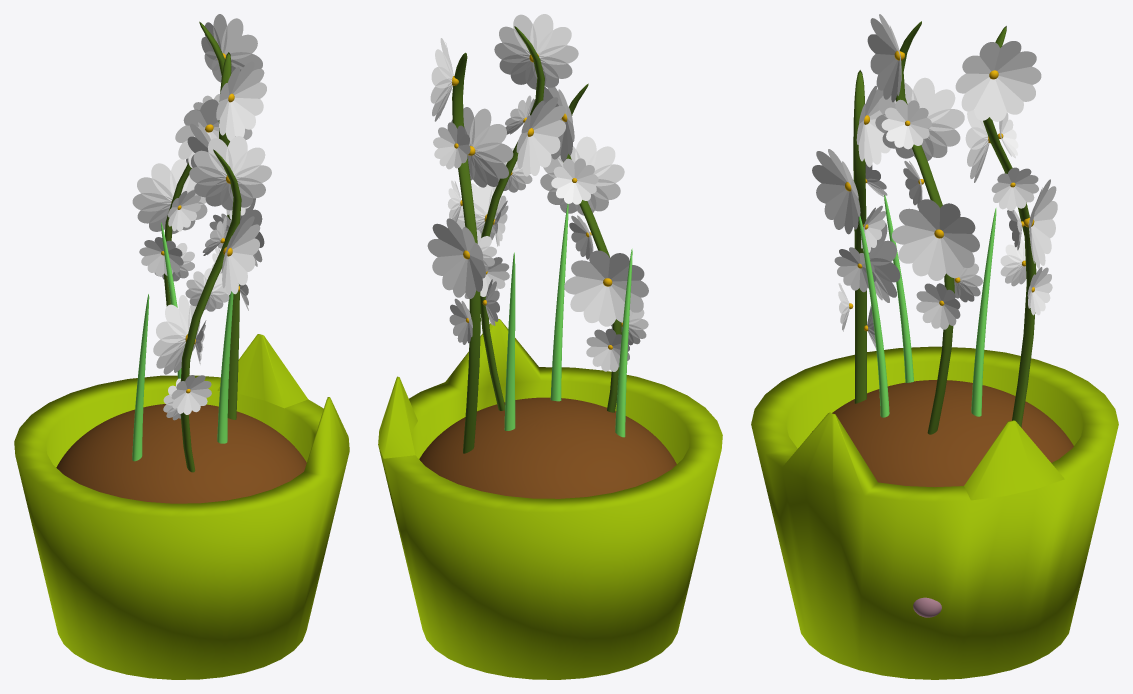
The model's file is Primavera 3.fbx.
3 renders of one model, left to right at view 1: azimuth 30°, elevation 25°; view 2: azimuth 150°, elevation 25°; view 3: azimuth 270°, elevation 25°, orthographic. The views are drawn at different scales.
Parts seen in each view (by area): view 1: Circle.013, Sphere.013, Cube.092, Cube.101, Cube.085, Cube.093, Cube.083, Cube.094, Cube.095, Cube.102, Cube.086, Cube.111 (+7 smaller); view 2: Circle.013, Sphere.013, Cube.094, Cube.101, Cube.084, Cube.085, Cube.095, Cube.086, Cube.104, Cube.102, Cube.096, Cube.111 (+13 smaller); view 3: Circle.013, Sphere.013, Cube.103, Cube.083, Cube.104, Cube.093, Cube.095, Cube.084, Cube.102, Cube.101, Cube.105, Cube.085 (+15 smaller).
Part boxes in pixels (left/top/right/bottom): Circle.013: left=14, top=334, right=349, bottom=679; Sphere.013: left=56, top=404, right=306, bottom=503; Cube.092: left=189, top=136, right=271, bottom=210; Cube.101: left=216, top=61, right=266, bottom=140; Cube.085: left=132, top=159, right=207, bottom=234; Cube.093: left=180, top=149, right=241, bottom=472; Cube.083: left=201, top=14, right=262, bottom=82; Cube.094: left=153, top=295, right=200, bottom=374; Cube.095: left=222, top=216, right=260, bottom=294; Cube.102: left=218, top=52, right=239, bottom=419; Cube.086: left=175, top=99, right=252, bottom=168; Cube.111: left=217, top=291, right=233, bottom=443; Circle.013: left=378, top=319, right=722, bottom=679; Sphere.013: left=419, top=397, right=676, bottom=498; Cube.094: left=564, top=250, right=648, bottom=326; Cube.101: left=494, top=14, right=578, bottom=89; Cube.084: left=452, top=52, right=480, bottom=453; Cube.085: left=427, top=218, right=485, bottom=298; Cube.095: left=540, top=136, right=624, bottom=215; Cube.086: left=451, top=107, right=513, bottom=187; Cube.104: left=516, top=97, right=565, bottom=176; Cube.102: left=480, top=26, right=544, bottom=410; Cube.096: left=551, top=158, right=598, bottom=204; Cube.111: left=550, top=204, right=568, bottom=401; Circle.013: left=751, top=346, right=1118, bottom=679; Sphere.013: left=812, top=380, right=1073, bottom=487; Cube.103: left=892, top=199, right=979, bottom=280; Cube.083: left=955, top=41, right=1041, bottom=121; Cube.104: left=875, top=77, right=964, bottom=160; Cube.093: left=853, top=70, right=866, bottom=403; Cube.095: left=812, top=149, right=860, bottom=234; Cube.084: left=983, top=26, right=1036, bottom=427; Cube.102: left=895, top=21, right=954, bottom=434; Cube.101: left=867, top=14, right=904, bottom=102; Cube.105: left=881, top=99, right=931, bottom=149; Cube.085: left=1023, top=179, right=1057, bottom=268.
Size of the model in its own units: 45.4 by 84.94 by 45.4.
